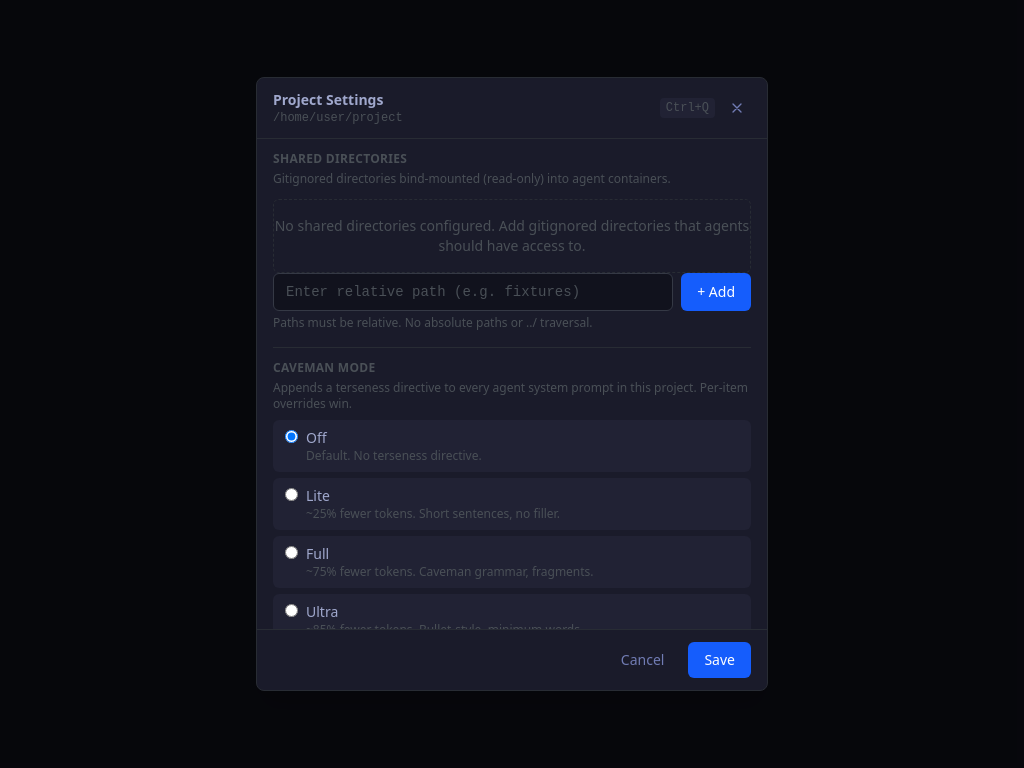
Scenario: ProjectConfigDialog › validates input — rejects absolute paths
The width and height of the screenshot is (1024, 768).
In the field with test id "add-dir-input": [473, 292] box 273,273 -> 673,311, type "/etc/passwd"
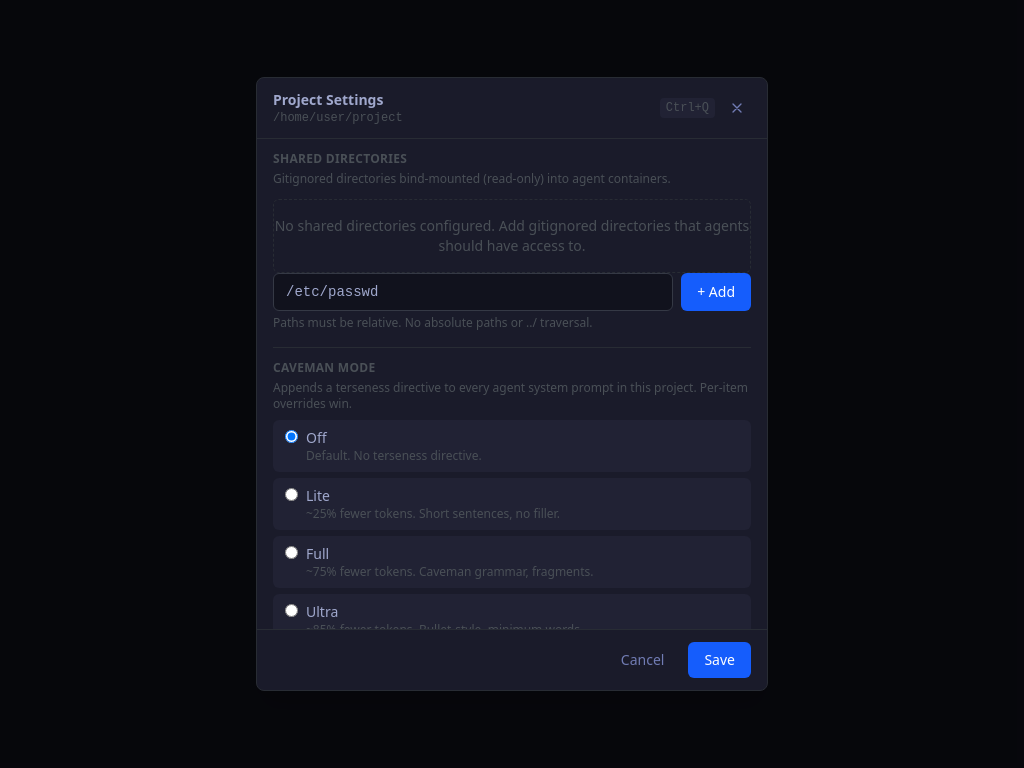
Click the button with test id "add-dir-button": [716, 292] box 681,273 -> 751,311
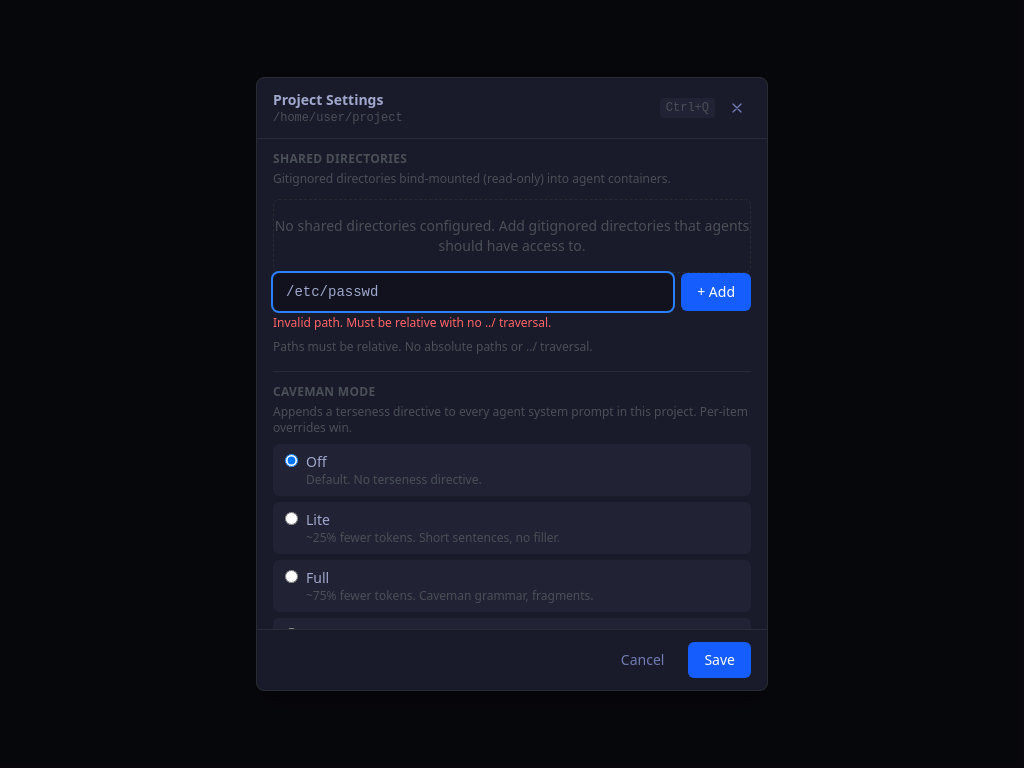
Expected: the text with test id "validation-error" shows "Invalid path", 273,314 -> 551,331
